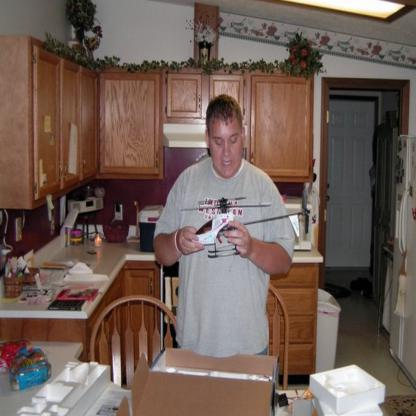door: (326, 100, 374, 265)
knob: (326, 196, 330, 202)
